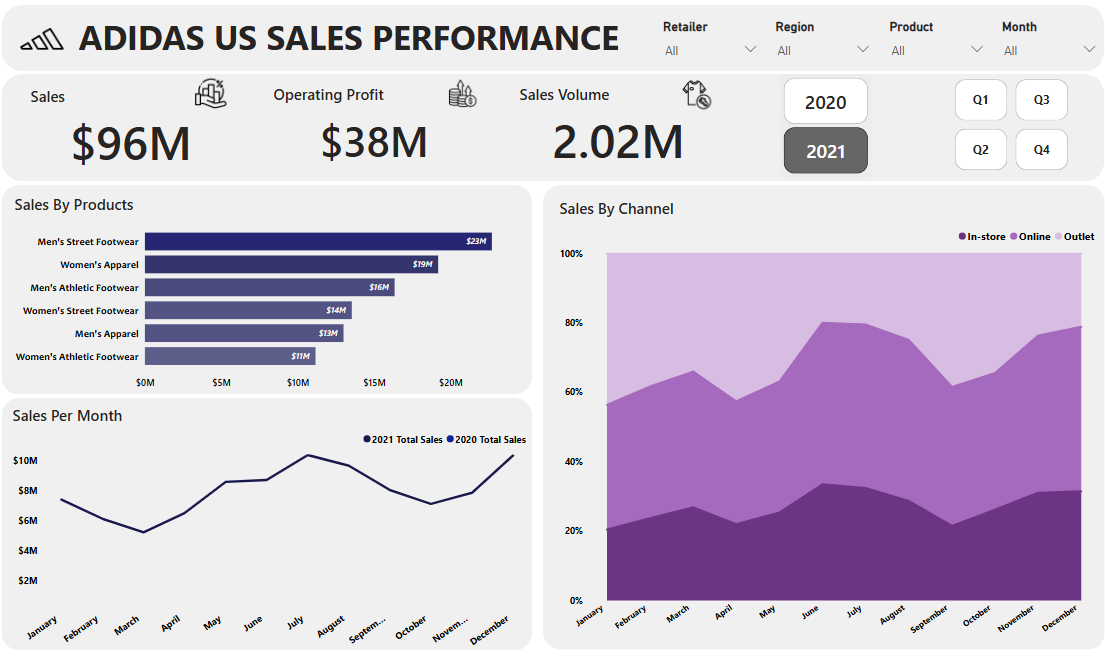

Layout of this report page (visuals, bound fields, positions):
{"tool":"powerbi","page":{"name":"1","canvas":[1600,940],"ordinal":0},"visuals":[{"type":"shape","box":[11.5,569,756.7,360.2],"z":0},{"type":"shape","box":[11.4,106,1574.8,153.3],"z":1000},{"type":"card","title":"Sales","fields":{"Values":["Sum(Sales.total_sales)"]},"box":[31,113.8,325.9,146.6],"z":2000},{"type":"shape","box":[11.5,266.3,756.7,298.9],"z":3000},{"type":"image","box":[259.3,107.9,100.3,54.9],"z":4000},{"type":"barChart","title":"Sales By Products","fields":{"Category":["Sales.Product"],"Y":["Sum(Sales.total_sales)"]},"box":[19.2,277.8,749.1,287.4],"z":5000},{"type":"shape","box":[783.6,266.3,802.7,662.9],"z":6000},{"type":"hundredPercentStackedAreaChart","title":"Sales By Channel","fields":{"Y":["Sum(Sales.total_sales)"],"Series":["Sales.sales_method"],"Category":["Sales.invoice_date.Variation.Date Hierarchy.Month"]},"box":[789.3,270.1,785.5,651.4],"z":7000},{"type":"image","box":[617,107.9,104.1,54.9],"z":8000},{"type":"advancedSlicerVisual","fields":{"Values":["Sales.Short_Quarter"]},"box":[1364.7,109.8,172.2,140.1],"z":9000},{"type":"lineChart","title":"Sales Per Month","fields":{"Category":["Sales.invoice_date.Variation.Date Hierarchy.Month"],"Y":["Sales.2021 Total Sales","Sales.2020 Total Sales"]},"box":[21.1,572.8,747.2,360.2],"z":10000},{"type":"card","title":"Operating Profit","fields":{"Values":["Sum(Sales.operating_profit)"]},"box":[378.6,111.7,327.4,147.6],"z":11000},{"type":"card","title":"Sales Volume","fields":{"Values":["Sum(Sales.units_sold)"]},"box":[730.6,111.7,321.8,143.8],"z":12000},{"type":"image","box":[952.1,109.8,100.3,54.9],"z":13000},{"type":"advancedSlicerVisual","fields":{"Values":["Sales.invoice_date.Variation.Date Hierarchy.Year"]},"box":[1120.5,106,130.6,147.6],"z":14000},{"type":"shape","box":[11.4,7.6,1574.8,94.6],"z":15000},{"type":"textbox","box":[115.5,15.5,789.7,84.5],"z":16000},{"type":"image","box":[31,6.9,72.4,100],"z":17000},{"type":"slicer","fields":{"Values":["Region.region"]},"box":[1102.1,23.4,161.4,63.7],"z":18000},{"type":"slicer","fields":{"Values":["Products.product"]},"box":[1263.5,23.4,161.4,63.7],"z":19000},{"type":"slicer","fields":{"Values":["Sales.invoice_date.Variation.Date Hierarchy.Month"]},"box":[1424.9,23.4,161.4,63.7],"z":20000},{"type":"slicer","fields":{"Values":["Retailers.retailer"]},"box":[940.7,23.4,161.4,63.7],"z":21000}]}

Visuals, with their boxes in screenshot pixels (x1, y1, x2, y2), scaled from the page's 1600x940 canvas onto the 1105x658 screenshot:
shape: box=[8, 398, 531, 650]
shape: box=[8, 74, 1095, 182]
"Sales" card: box=[21, 80, 246, 182]
shape: box=[8, 186, 531, 396]
image: box=[179, 76, 248, 114]
"Sales By Products" barChart: box=[13, 194, 531, 396]
shape: box=[541, 186, 1096, 650]
"Sales By Channel" hundredPercentStackedAreaChart: box=[545, 189, 1088, 645]
image: box=[426, 76, 498, 114]
advancedSlicerVisual - Sales.Short_Quarter: box=[942, 77, 1061, 175]
"Sales Per Month" lineChart: box=[15, 401, 531, 653]
"Operating Profit" card: box=[261, 78, 488, 182]
"Sales Volume" card: box=[505, 78, 727, 179]
image: box=[658, 77, 727, 115]
advancedSlicerVisual - Sales.invoice_date.Variation.Date Hierarchy.Year: box=[774, 74, 864, 178]
shape: box=[8, 5, 1095, 72]
textbox: box=[80, 11, 625, 70]
image: box=[21, 5, 71, 75]
slicer - Region.region: box=[761, 16, 873, 61]
slicer - Products.product: box=[873, 16, 984, 61]
slicer - Sales.invoice_date.Variation.Date Hierarchy.Month: box=[984, 16, 1096, 61]
slicer - Retailers.retailer: box=[650, 16, 761, 61]
